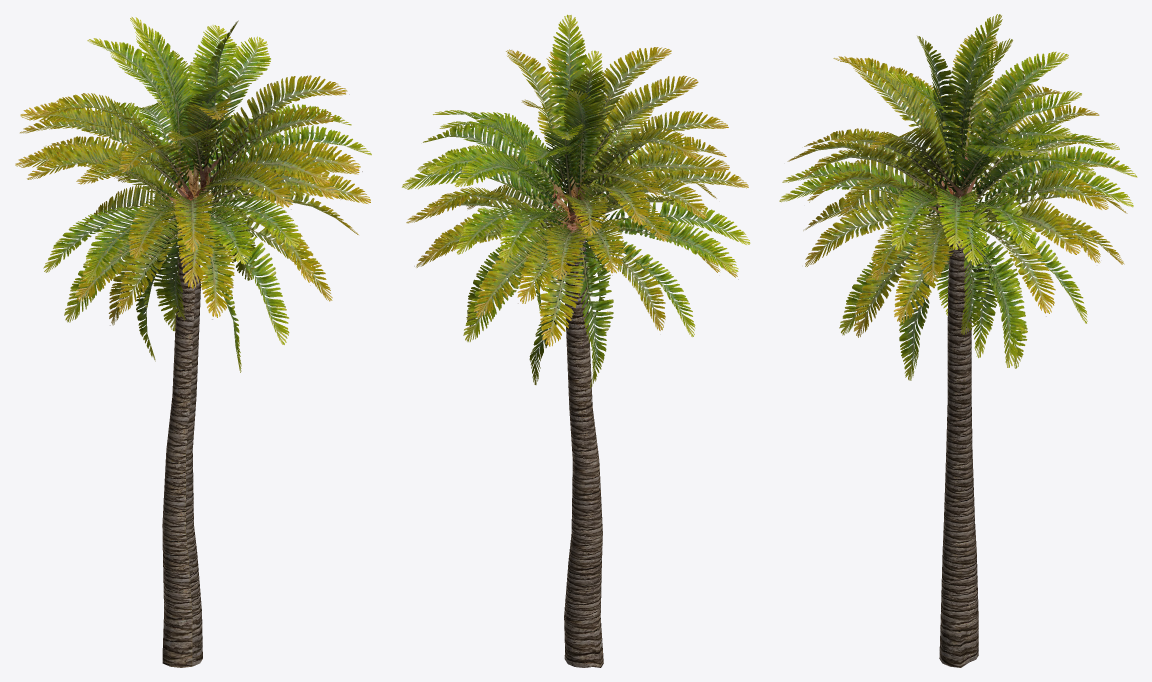
The model's file is palm-tree.glb.
The picture shows the model from 3 angles, left to right: view 1: azimuth 30°, elevation 25°; view 2: azimuth 150°, elevation 25°; view 3: azimuth 270°, elevation 25°; orthographic projection. The views are drawn at different scales.
Parts seen in each view (by area): view 1: palm001; view 2: palm001; view 3: palm001.
Part boxes in pixels (<box>): palm001: <box>15,17,371,667</box>; palm001: <box>402,14,750,667</box>; palm001: <box>779,14,1137,667</box>.
Size of the model in its own units: 3.69 by 7.16 by 3.63.
Materials: 1 (1 with a texture image).
